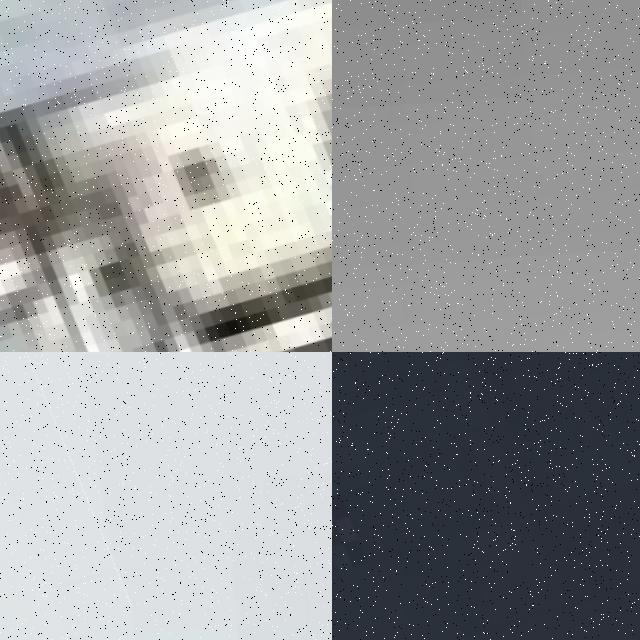drone: (0, 0, 332, 352), (332, 352, 640, 640), (0, 352, 150, 640)
